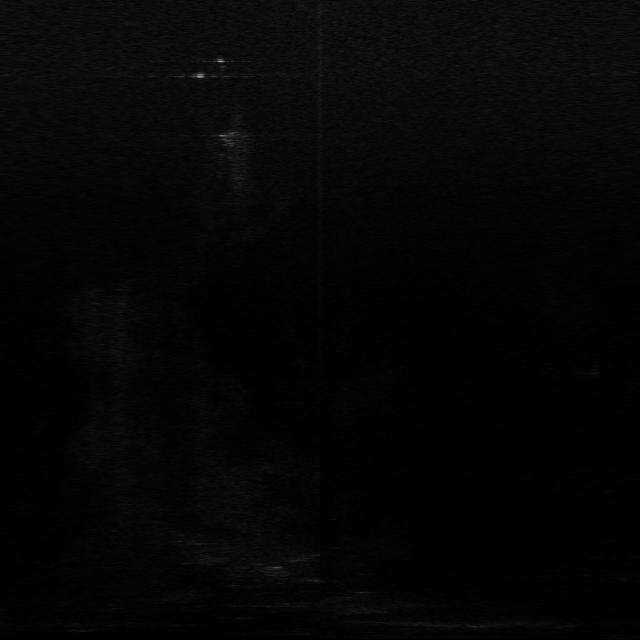rov: (213, 129, 244, 148)
